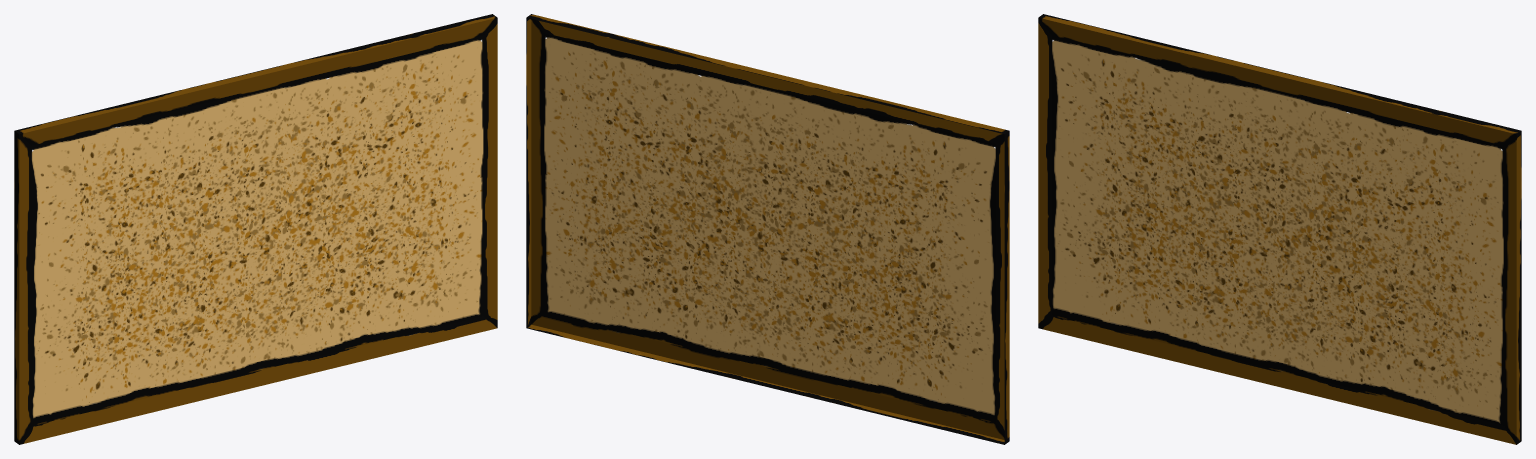
File: CorkBoard.fbx
3 renders of one model, left to right at view 1: azimuth 30°, elevation 25°; view 2: azimuth 150°, elevation 25°; view 3: azimuth 330°, elevation 25°, orthographic.
Parts seen in each view (by area): view 1: Cube; view 2: Cube; view 3: Cube.
Boxes of the visible parts, x1,y1,x2,y2 form: Cube: [14, 14, 497, 444]; Cube: [526, 14, 1009, 444]; Cube: [1038, 14, 1521, 444].
Bounding box in the file's own units: 480 × 298 × 8.66.
1 material, 1 textured.
